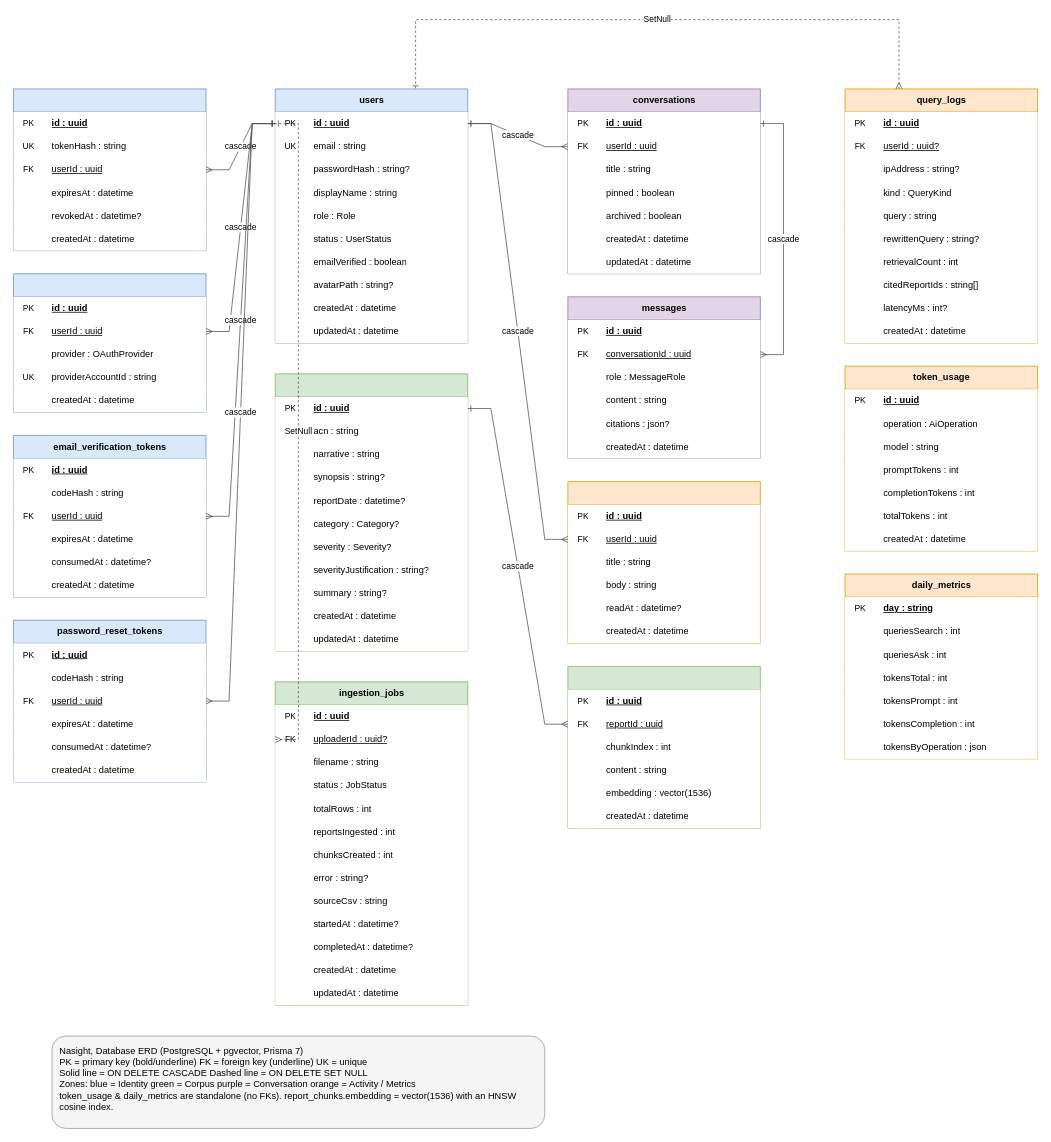
Some shapes in this 1051 by 1142 pixel diagram are drawn without their labels. The box of each missing label's shape, as (x1, y1, x2, y2) in pixels:
notifications: (567, 481, 760, 643)
oauth_accounts: (13, 273, 206, 412)
refresh_tokens: (13, 88, 206, 251)
report_chunks: (567, 666, 760, 828)
reports: (275, 373, 468, 651)
